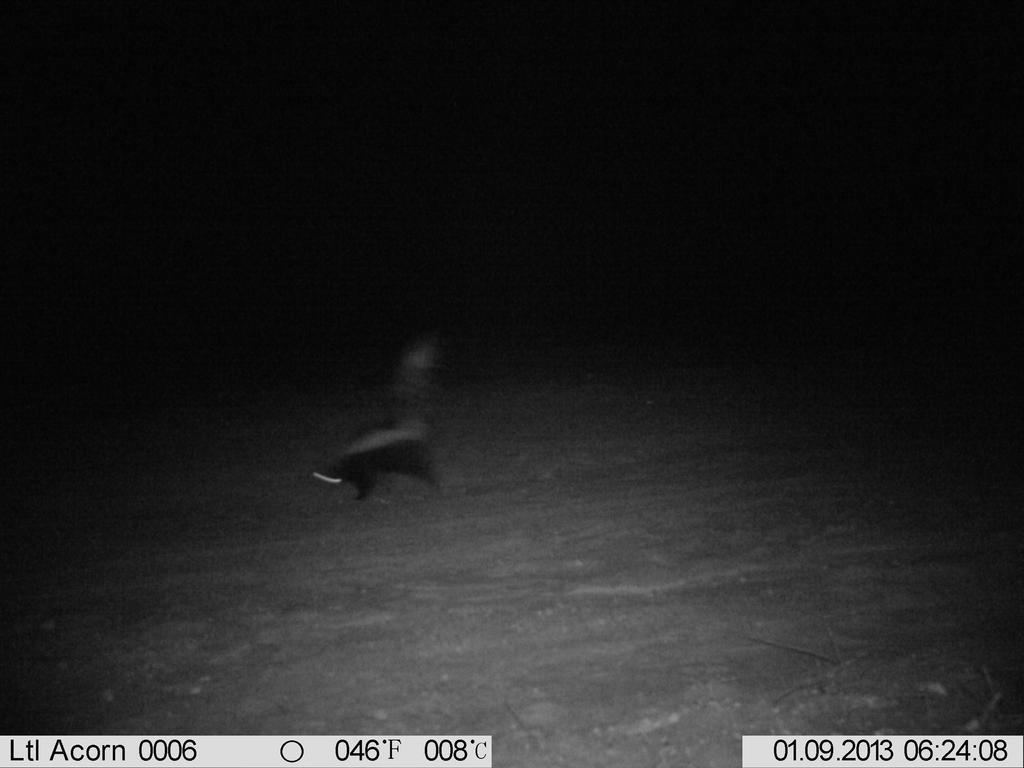skunk: (292, 314, 459, 517)
